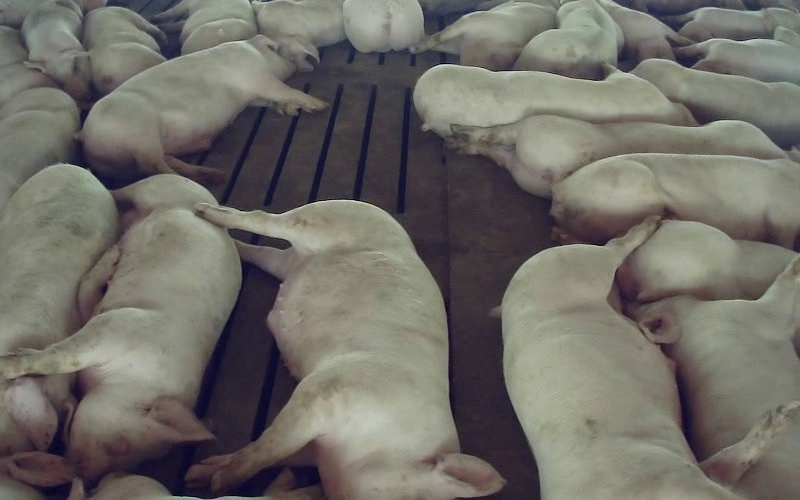pig: (189, 200, 503, 499), (0, 175, 240, 479), (501, 217, 734, 499), (81, 35, 325, 182), (634, 256, 799, 460), (446, 115, 799, 197), (551, 153, 799, 247), (0, 164, 118, 354), (413, 64, 696, 136), (632, 58, 799, 146), (616, 220, 795, 302), (0, 87, 79, 214), (514, 0, 623, 79), (82, 0, 165, 95), (21, 0, 90, 100), (252, 0, 345, 70), (674, 38, 799, 84), (153, 0, 256, 54), (343, 0, 424, 52)
